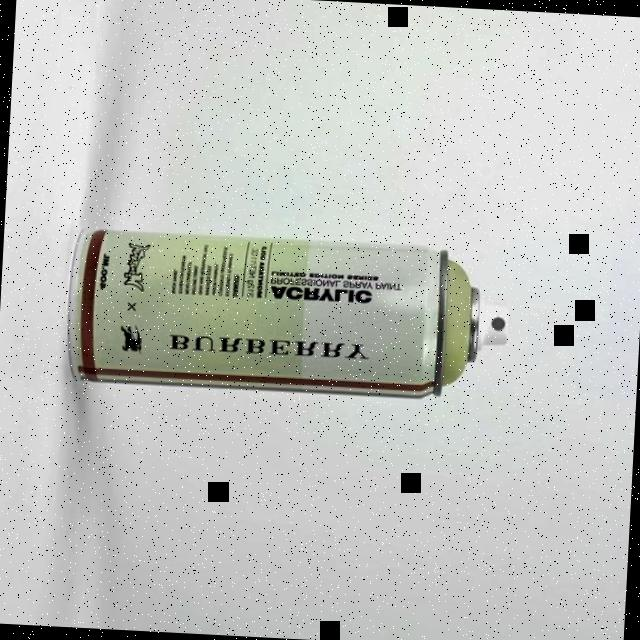chemical_spray_can: (67, 228, 508, 396)
